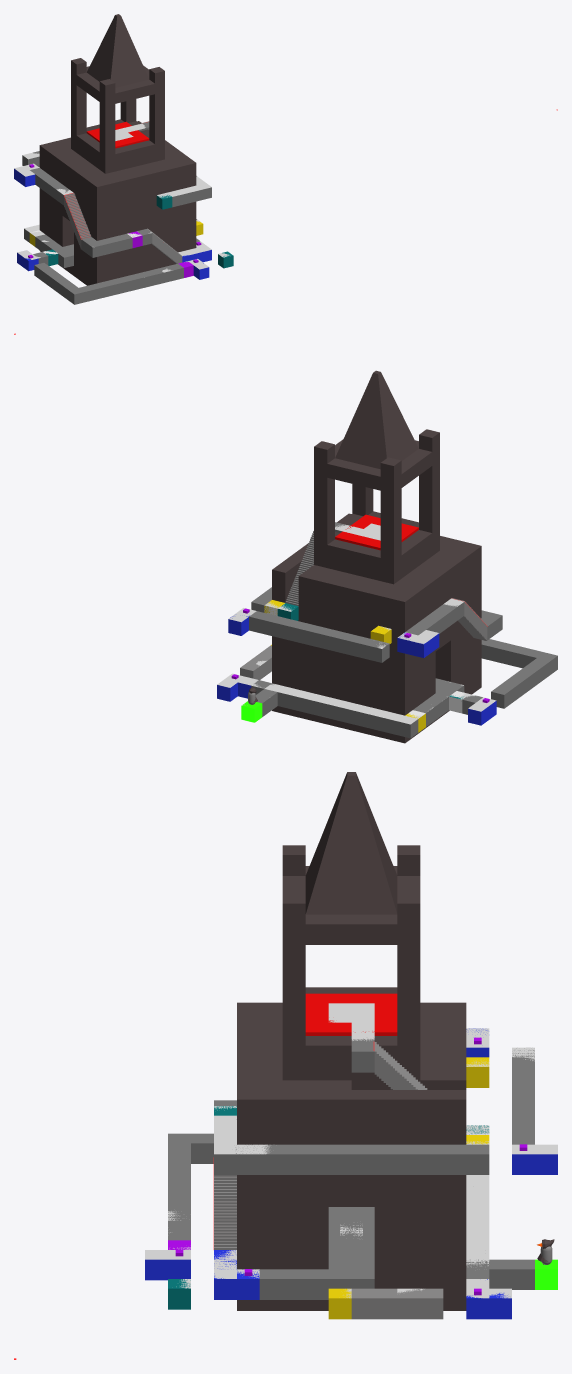
Rendered from level 2.fbx.
3 views of the same model, one above another, from view 1: azimuth 30°, elevation 25°; view 2: azimuth 150°, elevation 25°; view 3: azimuth 270°, elevation 25° (orthographic). The views are drawn at different scales.
Parts seen in each view (by area): view 1: Cube__19_, Cube__16_, Cube__20_, Cube__14_, Cube__26_, EndPointL2, Cube__32_; view 2: Cube__19_, Cube__30_, Cube__16_, Cube__6_, Cube__14_, Cube__26_, EndPointL2, Cube__13_, platform_2; view 3: Cube__19_, Cube__32_, Cube__14_, Cube__16_, Cube__13_, EndPointL2, Cube__30_, Cube__8_, platform_5, platform, platform_1, platform_4 (+5 smaller).
Part boxes in pixels (x1=…): Cube__19_: x1=39, y1=14, x2=196, y2=285; Cube__16_: x1=34, y1=263, x2=183, y2=304; Cube__20_: x1=81, y1=233, x2=132, y2=257; Cube__14_: x1=35, y1=234, x2=199, y2=267; Cube__26_: x1=30, y1=168, x2=69, y2=205; EndPointL2: x1=86, y1=121, x2=149, y2=148; Cube__32_: x1=172, y1=176, x2=211, y2=207; Cube__19_: x1=272, y1=370, x2=481, y2=743; Cube__30_: x1=249, y1=611, x2=389, y2=662; Cube__16_: x1=481, y1=639, x2=557, y2=708; Cube__6_: x1=251, y1=680, x2=418, y2=738; Cube__14_: x1=413, y1=678, x2=464, y2=726; Cube__26_: x1=405, y1=602, x2=464, y2=635; EndPointL2: x1=335, y1=514, x2=418, y2=550; Cube__13_: x1=240, y1=645, x2=271, y2=680; platform_2: x1=397, y1=632, x2=439, y2=657; Cube__19_: x1=237, y1=772, x2=466, y2=1310; Cube__32_: x1=214, y1=1119, x2=489, y2=1174; Cube__14_: x1=259, y1=1207, x2=374, y2=1299; Cube__16_: x1=168, y1=1133, x2=213, y2=1240; Cube__13_: x1=351, y1=1288, x2=443, y2=1319; EndPointL2: x1=305, y1=993, x2=397, y2=1035; Cube__30_: x1=512, y1=1048, x2=534, y2=1144; Cube__8_: x1=489, y1=1259, x2=534, y2=1289; platform_5: x1=214, y1=1250, x2=259, y2=1299; platform: x1=466, y1=1279, x2=511, y2=1319; platform_1: x1=512, y1=1154, x2=557, y2=1174; platform_4: x1=145, y1=1259, x2=190, y2=1280.
Bounding box in the file's own units: 1343 × 705 × 712.
